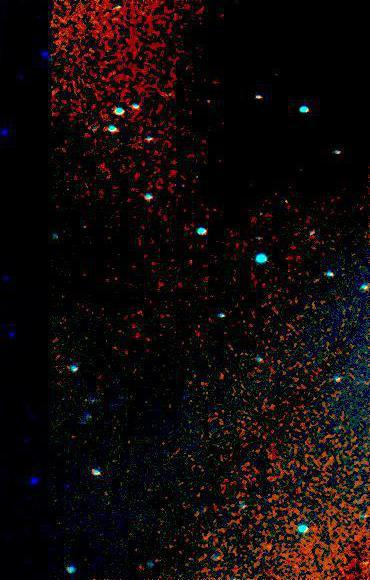star: (350, 548, 370, 578)
